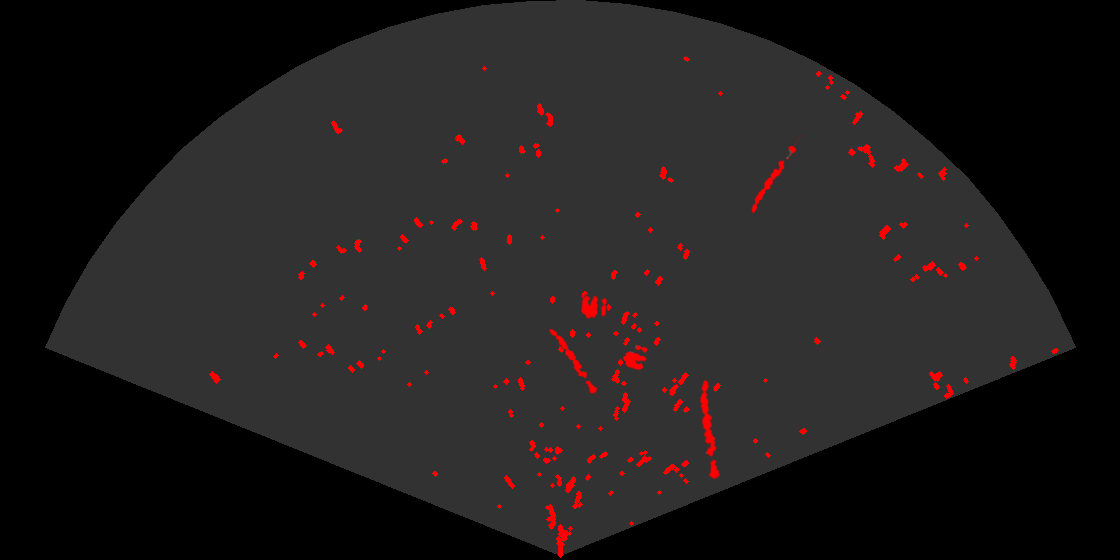ball: (621, 343, 649, 372), (579, 293, 609, 320)
chain: (750, 135, 803, 215), (548, 327, 602, 399), (698, 378, 721, 482)
